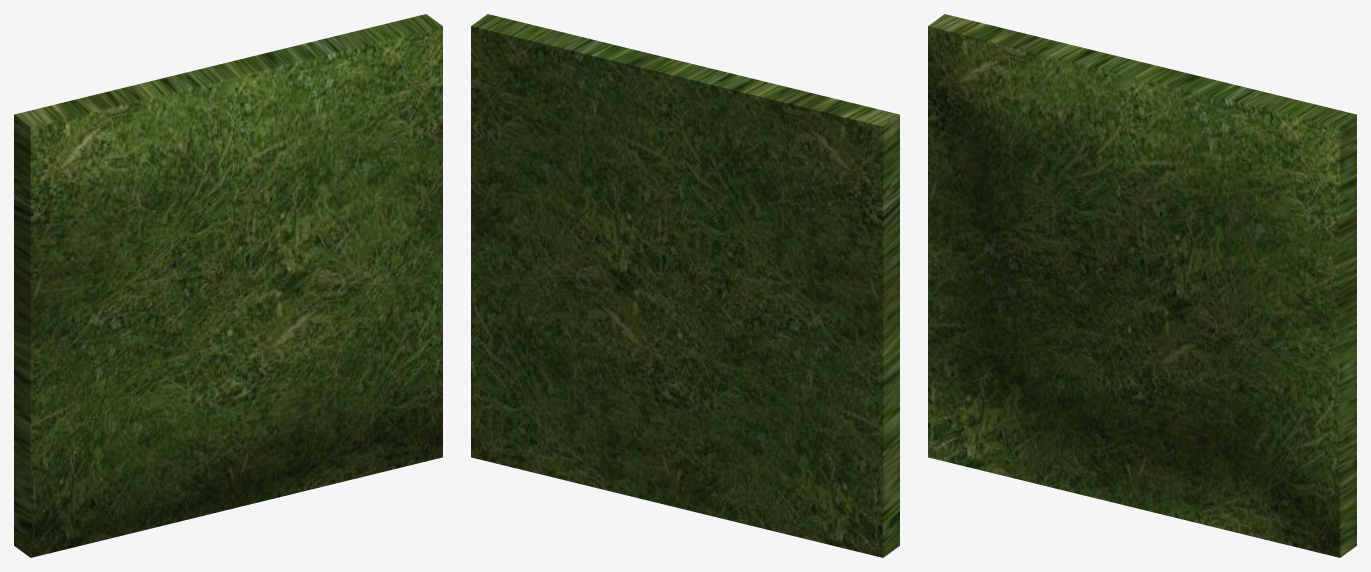
Rendered from ground_thick.obj.
3 views of the same model, side by side, from view 1: azimuth 30°, elevation 25°; view 2: azimuth 150°, elevation 25°; view 3: azimuth 330°, elevation 25° (orthographic).
Bounding box in the file's own units: 2 × 2 × 0.2808.
